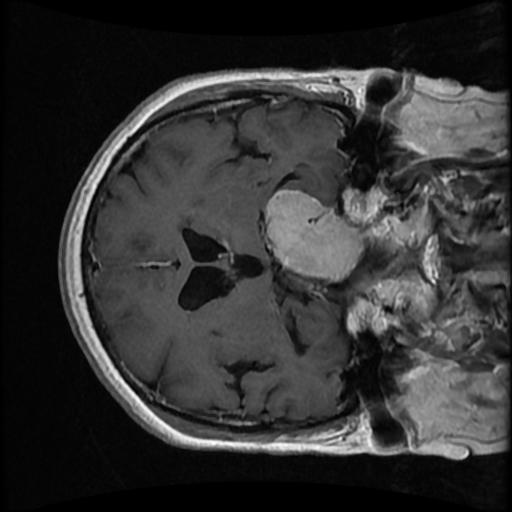meningioma: (264, 189, 365, 284)
